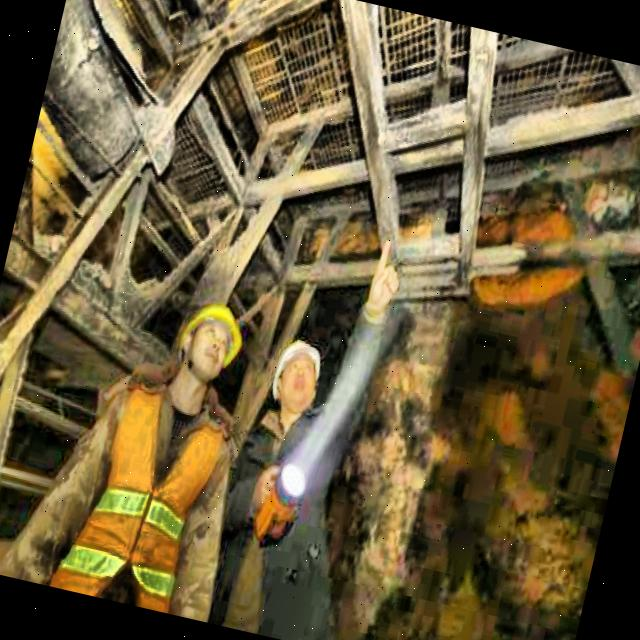helmet: (170, 292, 250, 388), (262, 330, 330, 426)
